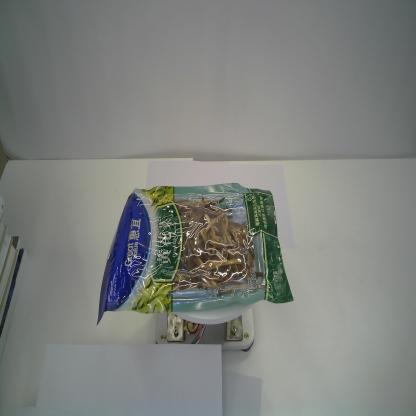Dried Food: (96, 181, 294, 326)
